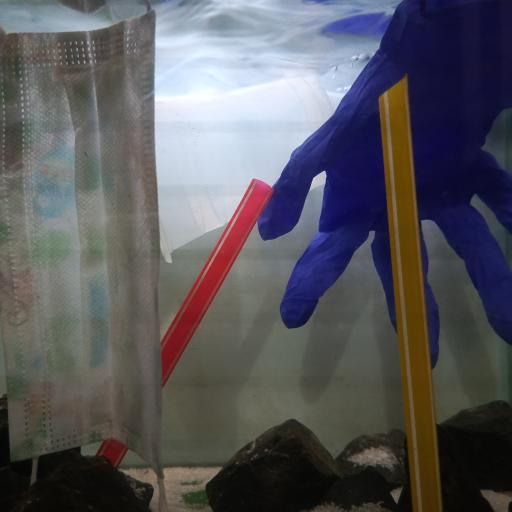glove: (259, 1, 512, 372)
mask: (0, 0, 165, 481)
plastic_cup: (154, 73, 336, 264)
plastic_straw: (96, 178, 278, 460), (377, 73, 443, 512)
